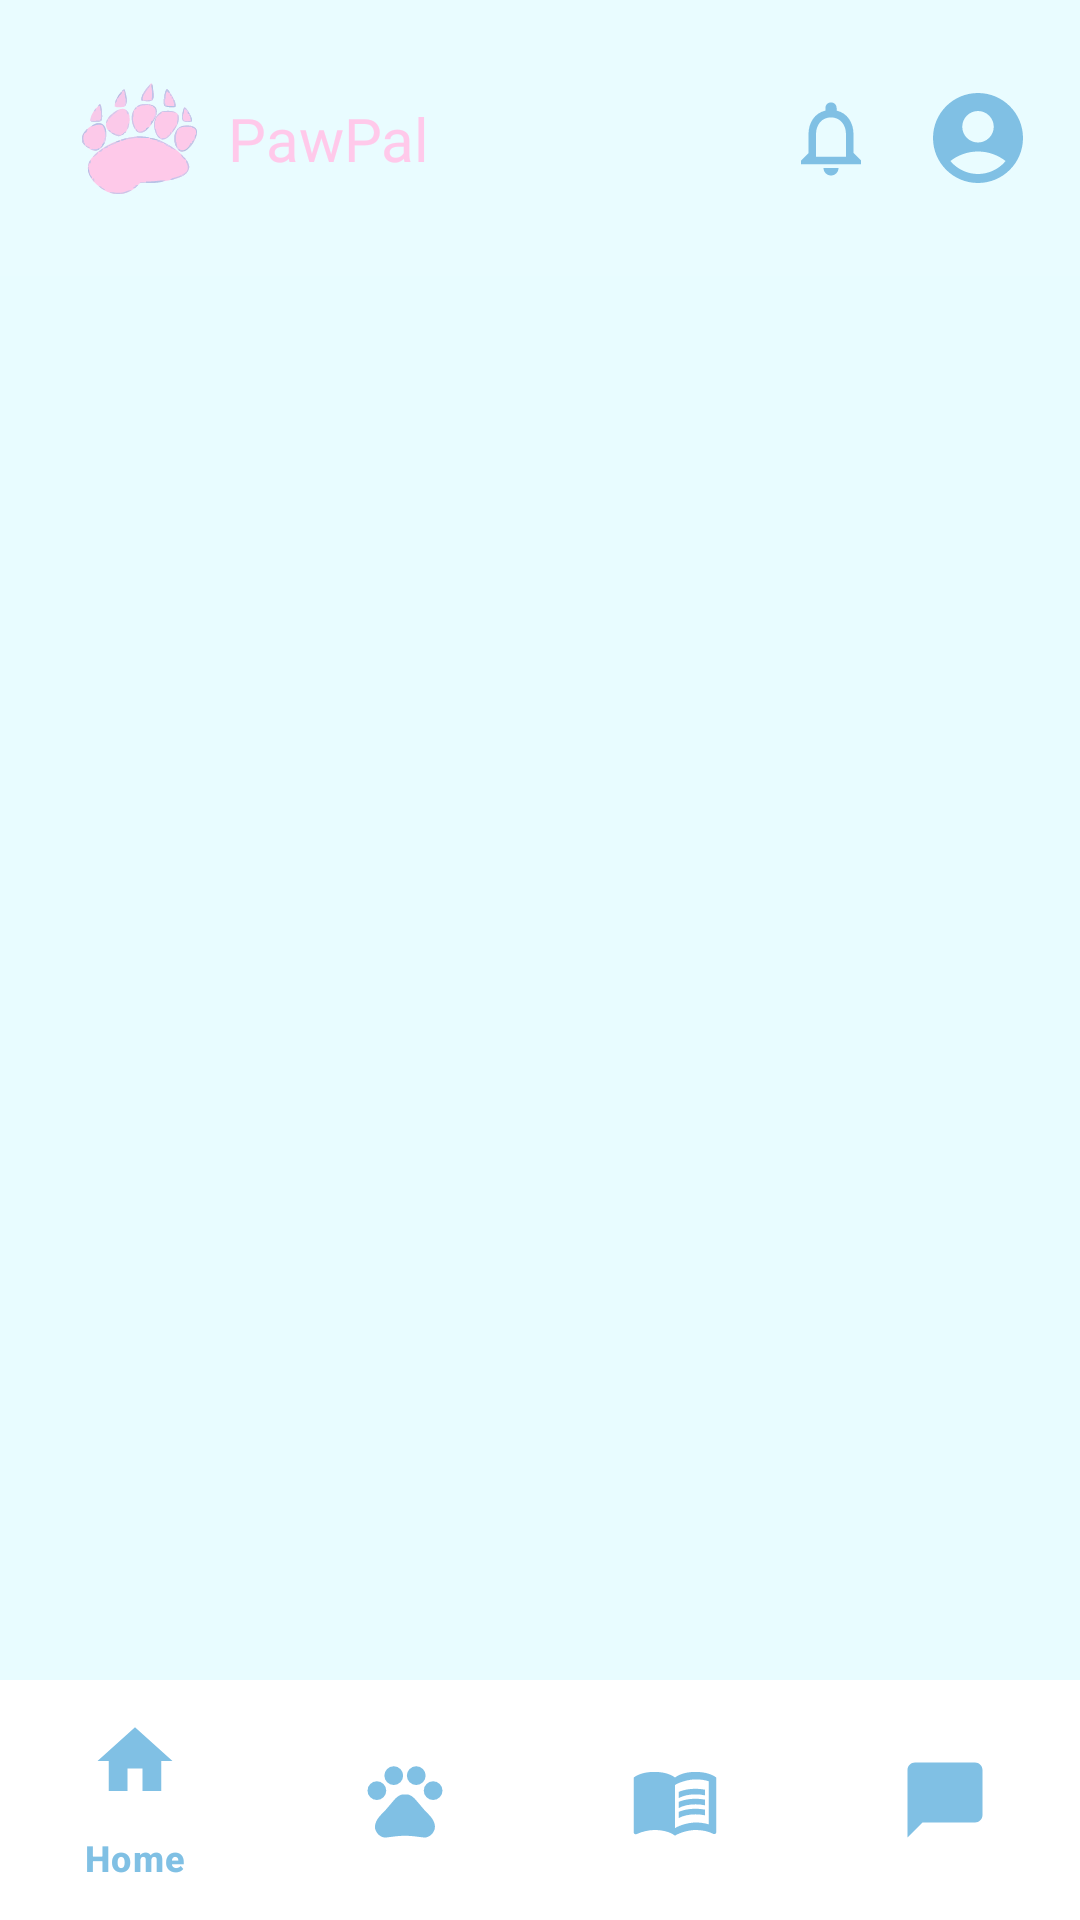

Screen size 1080 x 1920. Icon name, then its box in pixels as bbox(x1, y1, x2, y2):
notification: bbox(801, 102, 861, 176)
